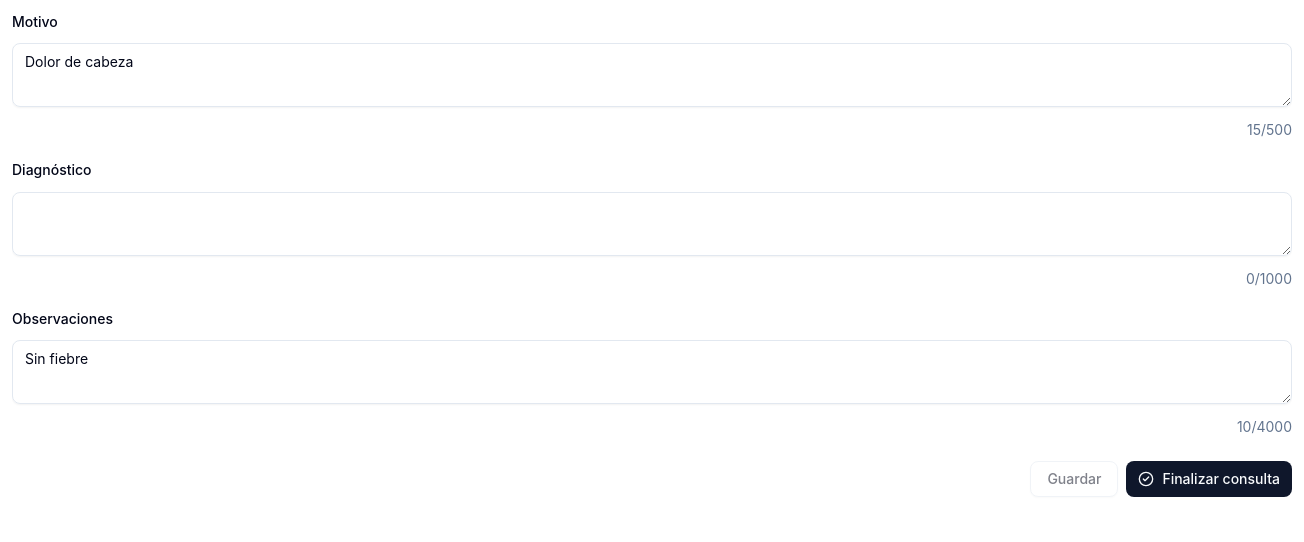
Test: ConsultationForm › requires the reason to save
The image size is (1304, 542).
Clear the text box labelled "Motivo": (652, 75) [12,43,1292,107]
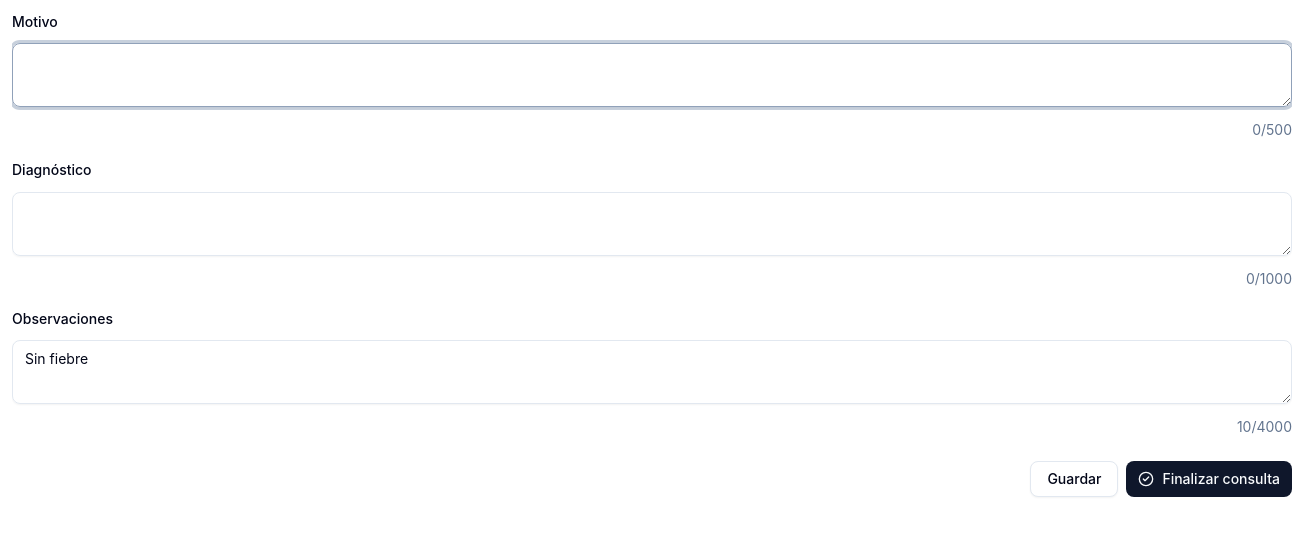
Click the button "Guardar": (1074, 479) [1030,461,1118,497]
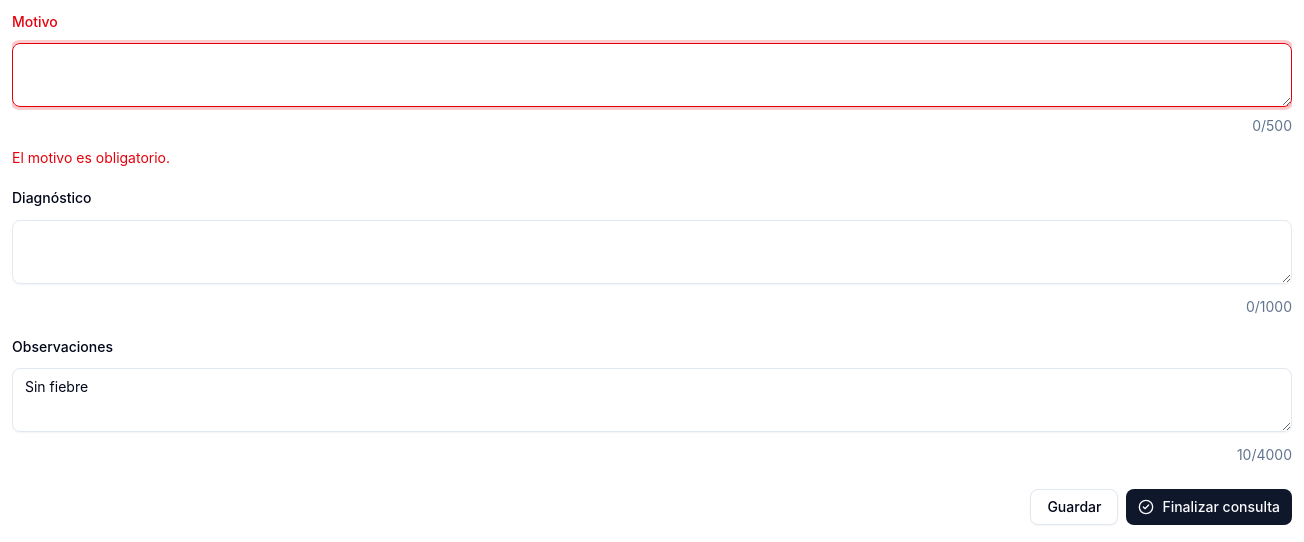
Expected: the text "El motivo es obligatorio." is shown, [12,149,170,166]
